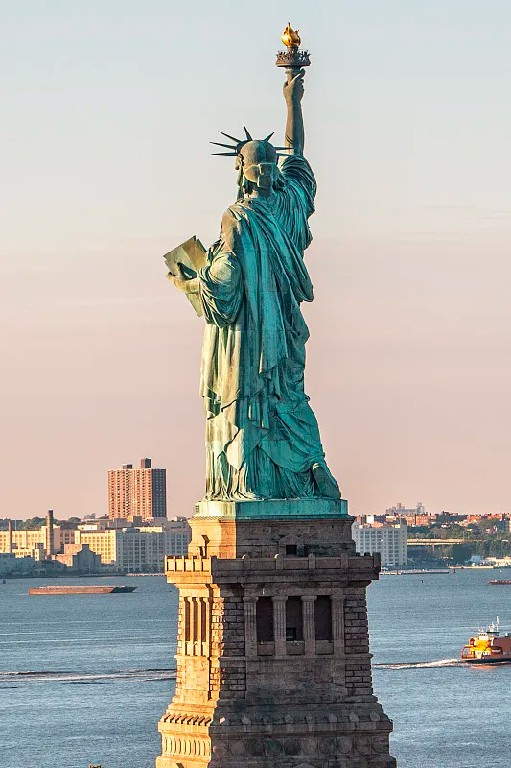SL: (155, 21, 397, 768)
